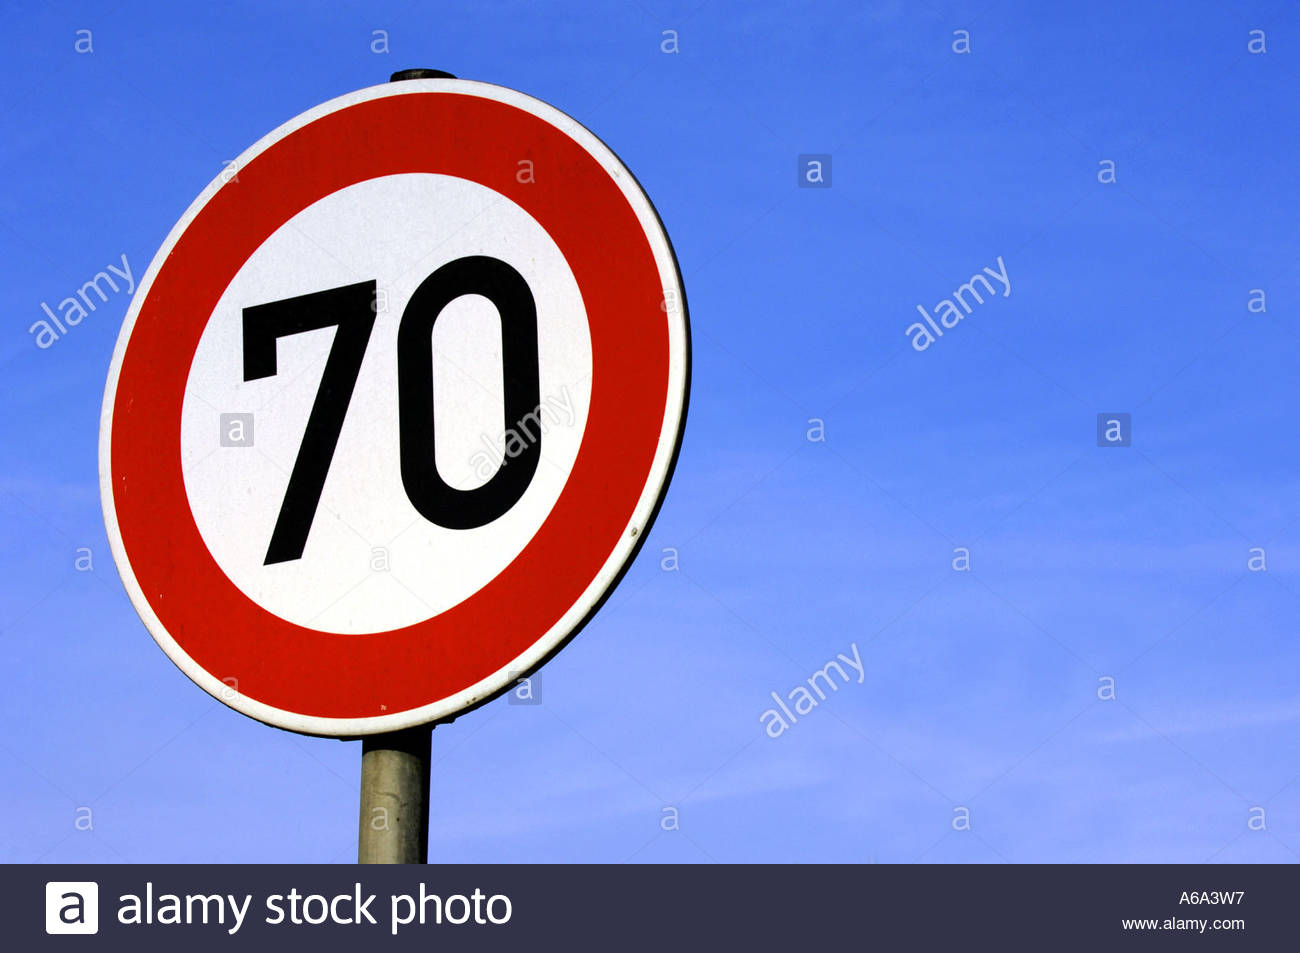Speed_limit_70km: (94, 78, 692, 735)
